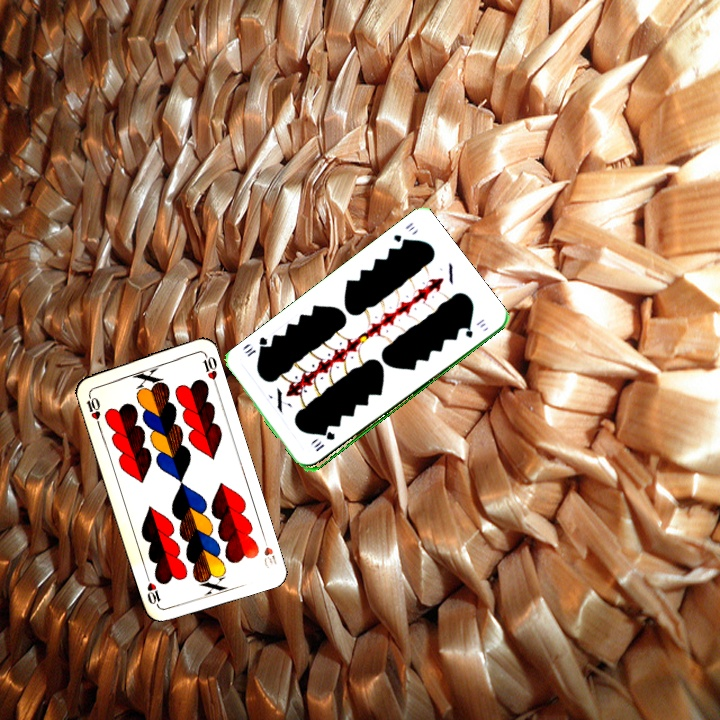G10: (390, 218, 417, 248), (311, 429, 338, 454)
H10: (259, 531, 280, 571), (82, 388, 103, 422)
